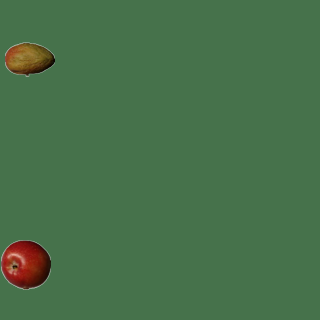Apple Braeburn: (0, 239, 50, 289)
Papaya: (4, 34, 54, 84)
